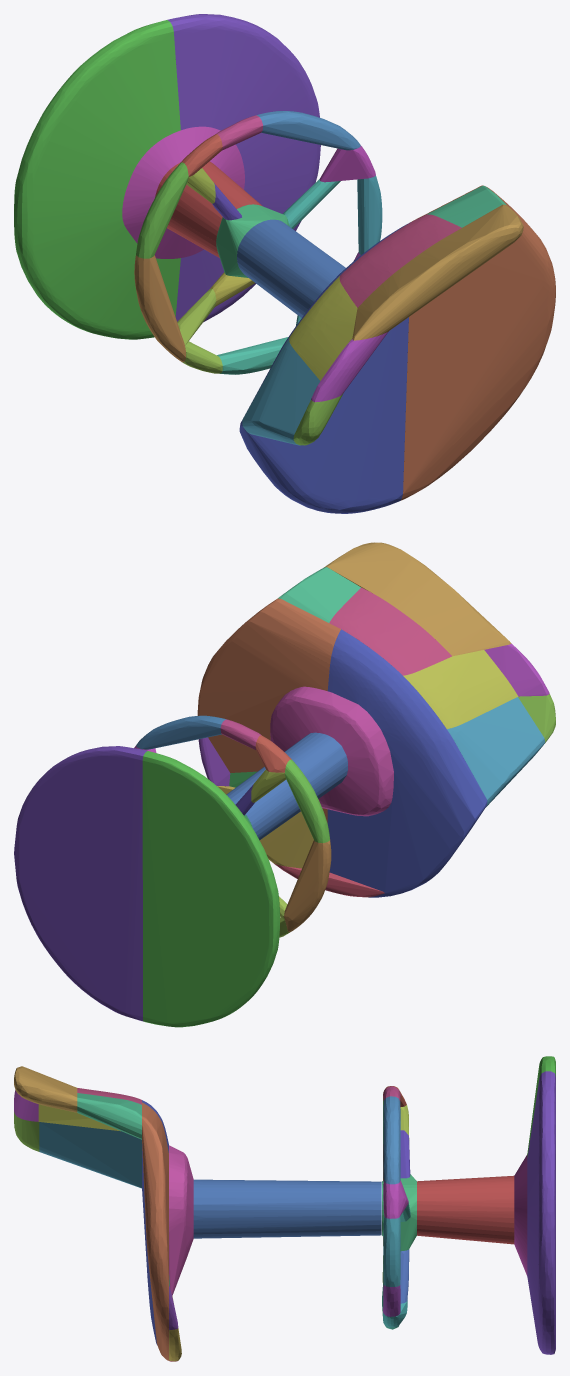
Rendered from hulls.glb.
3 views of the same model, one above another, from view 1: azimuth 30°, elevation 25°; view 2: azimuth 150°, elevation 25°; view 3: azimuth 270°, elevation 25° (orthographic). The views are drawn at different scales.
Bounding box in the file's own units: 0.5254 × 0.5031 × 0.8539.
